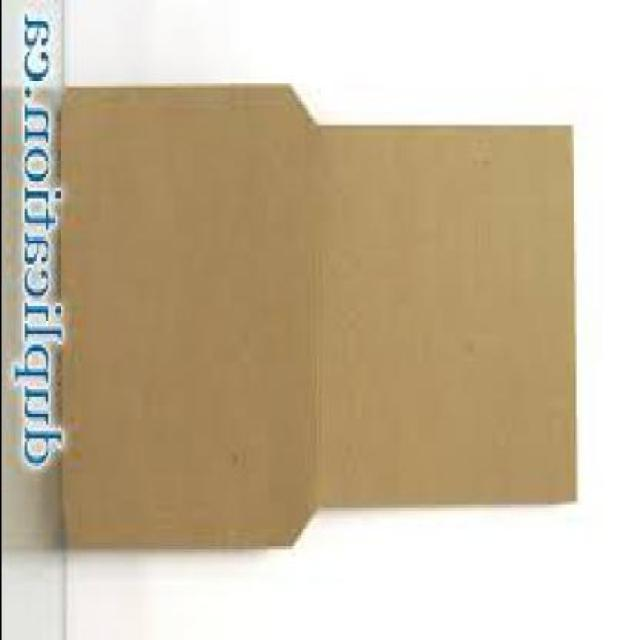CARDBOARD: (59, 87, 578, 556)
